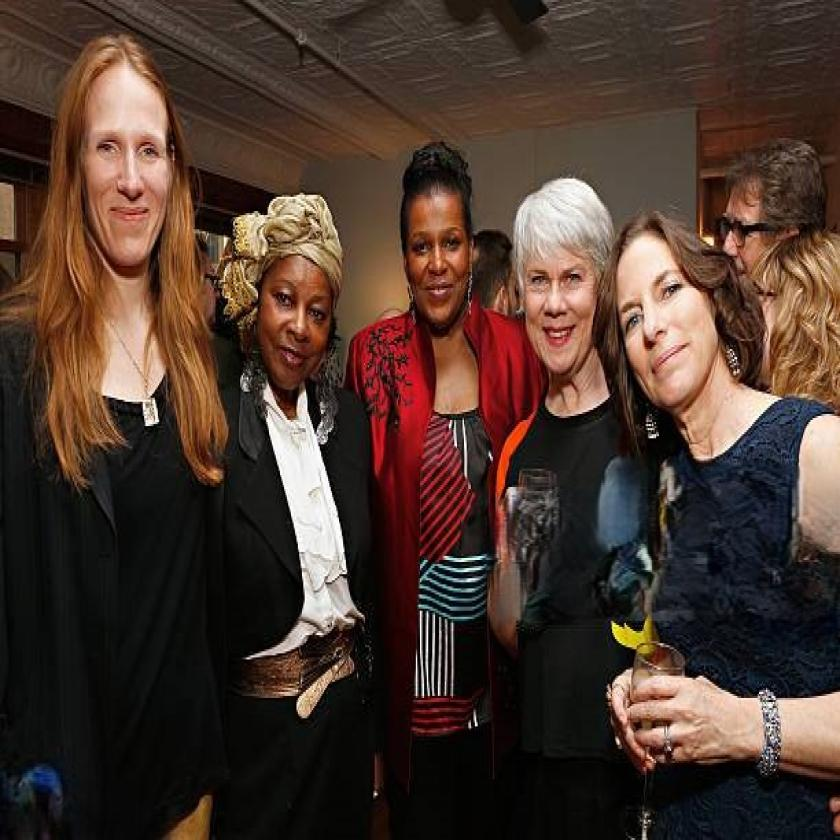Sin_casco: (55, 30, 196, 273), (591, 204, 735, 420), (499, 159, 609, 387), (228, 174, 356, 369), (387, 139, 481, 328)
